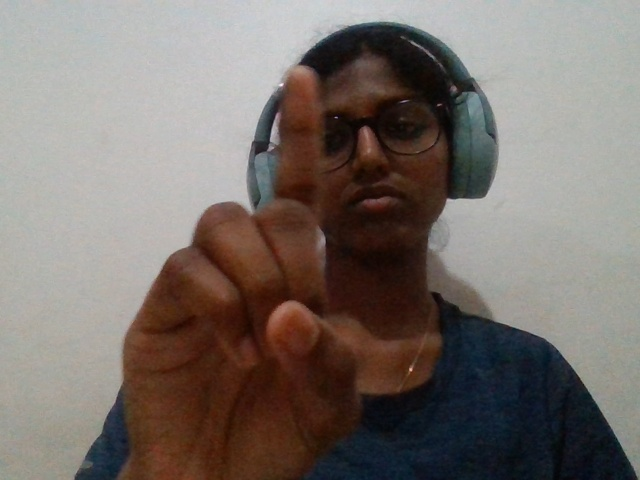D: (65, 49, 389, 480)
